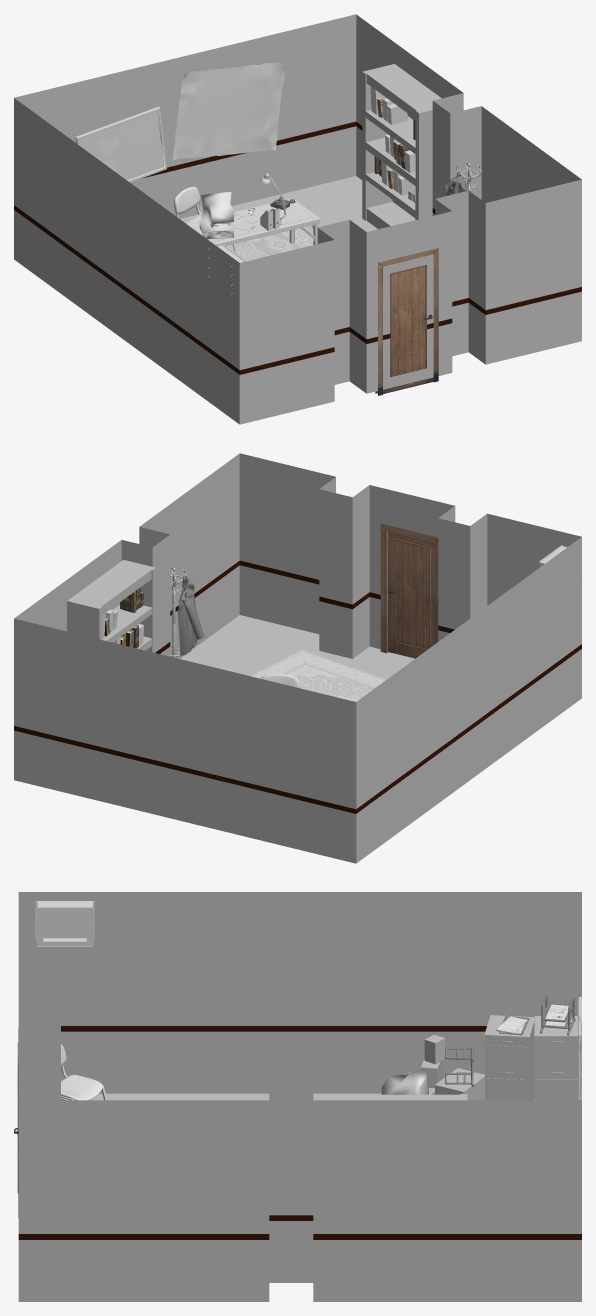
The model's file is prologue.fbx.
3 renders of one model, top to bottom at view 1: azimuth 30°, elevation 25°; view 2: azimuth 150°, elevation 25°; view 3: azimuth 270°, elevation 25°, orthographic. The views are drawn at different scales.
Visible parts, largest first — view 1: Plane, Poster_Crumpled, Cube, Door, PinBoard, Table_Rough, DoorFrame, purepng.com-carpetcarpetfloor-carpetstair-coveringthick-wov, Monitor, Chair; view 2: Plane, Door, Cube, purepng.com-carpetcarpetfloor-carpetstair-coveringthick-wove, DoorFrame, Cloth_Shap; view 3: Plane, Cube.014, Cube.000, Vent, Chair.002, 290x290x400_2, Monitor, Cube, Vent_Cover_Frame, 290x170x190_4, Frame.001.
Part boxes in pixels (x1,y1,x2,y2): Plane: (14,14,581,424); Poster_Crumpled: (173,62,287,160); Cube: (362,64,441,229); Door: (383,264,433,393); PinBoard: (75,106,166,182); Table_Rough: (187,198,320,246); DoorFrame: (375,248,438,395); purepng.com-carpetcarpetfloor-carpetstair-coveringthick-wov: (227,202,313,261); Monitor: (200,191,233,227); Chair: (173,186,236,251); Plane: (14,453,581,863); Door: (388,531,435,658); Cube: (67,560,155,652); purepng.com-carpetcarpetfloor-carpetstair-coveringthick-wove: (250,650,385,701); DoorFrame: (380,523,438,653); Cloth_Shap: (178,576,204,656); Plane: (18,892,581,1301); Cube.014: (484,1015,534,1100); Cube.000: (534,1016,577,1100); Vent: (35,901,94,946); Chair.002: (61,1044,106,1100); 290x290x400_2: (435,1068,484,1100); Monitor: (381,1070,428,1094); Cube: (326,1094,467,1100); Vent_Cover_Frame: (37,908,92,945); 290x170x190_4: (424,1034,444,1064); Frame.001: (444,1045,474,1086).
Bounding box in the file's own units: 1239 × 573 × 1421.
